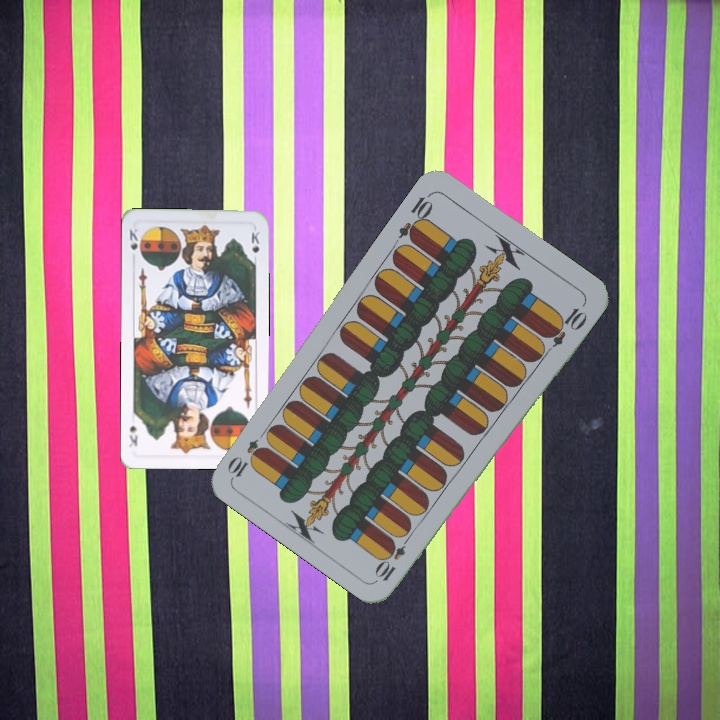E10: (394, 189, 436, 245), (372, 529, 414, 584)
SK: (125, 225, 141, 253)
